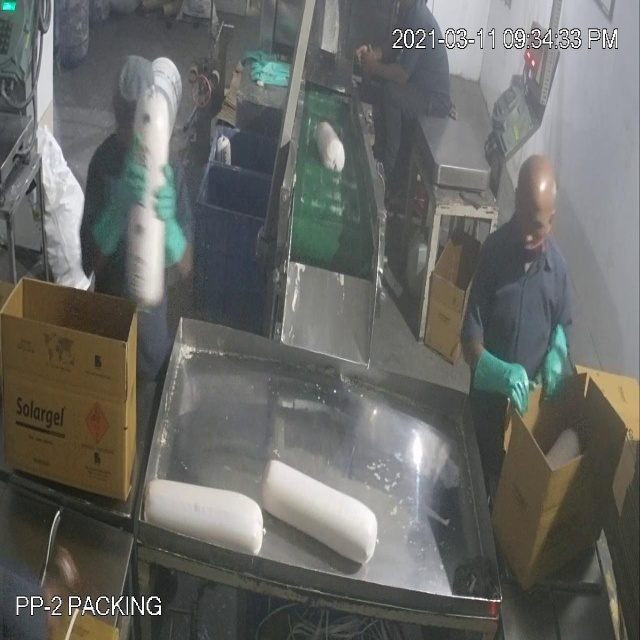Guantes: (469, 339, 528, 425)
Sin_guantes: (355, 46, 417, 85)
